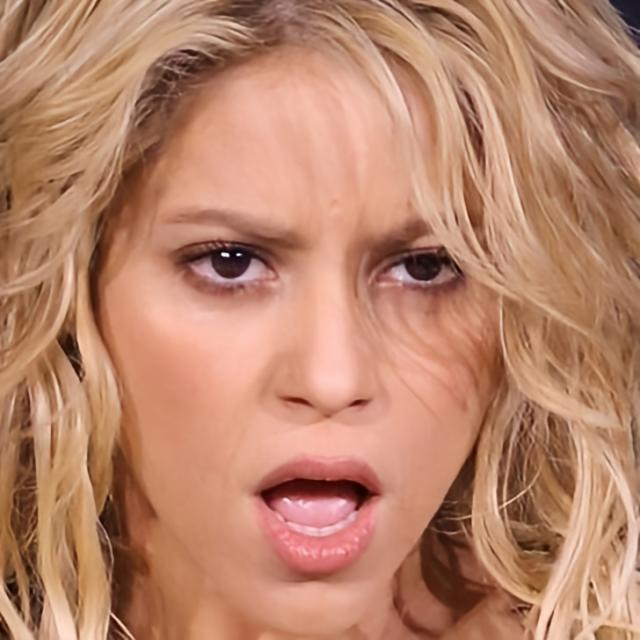anger: (94, 41, 509, 628)
